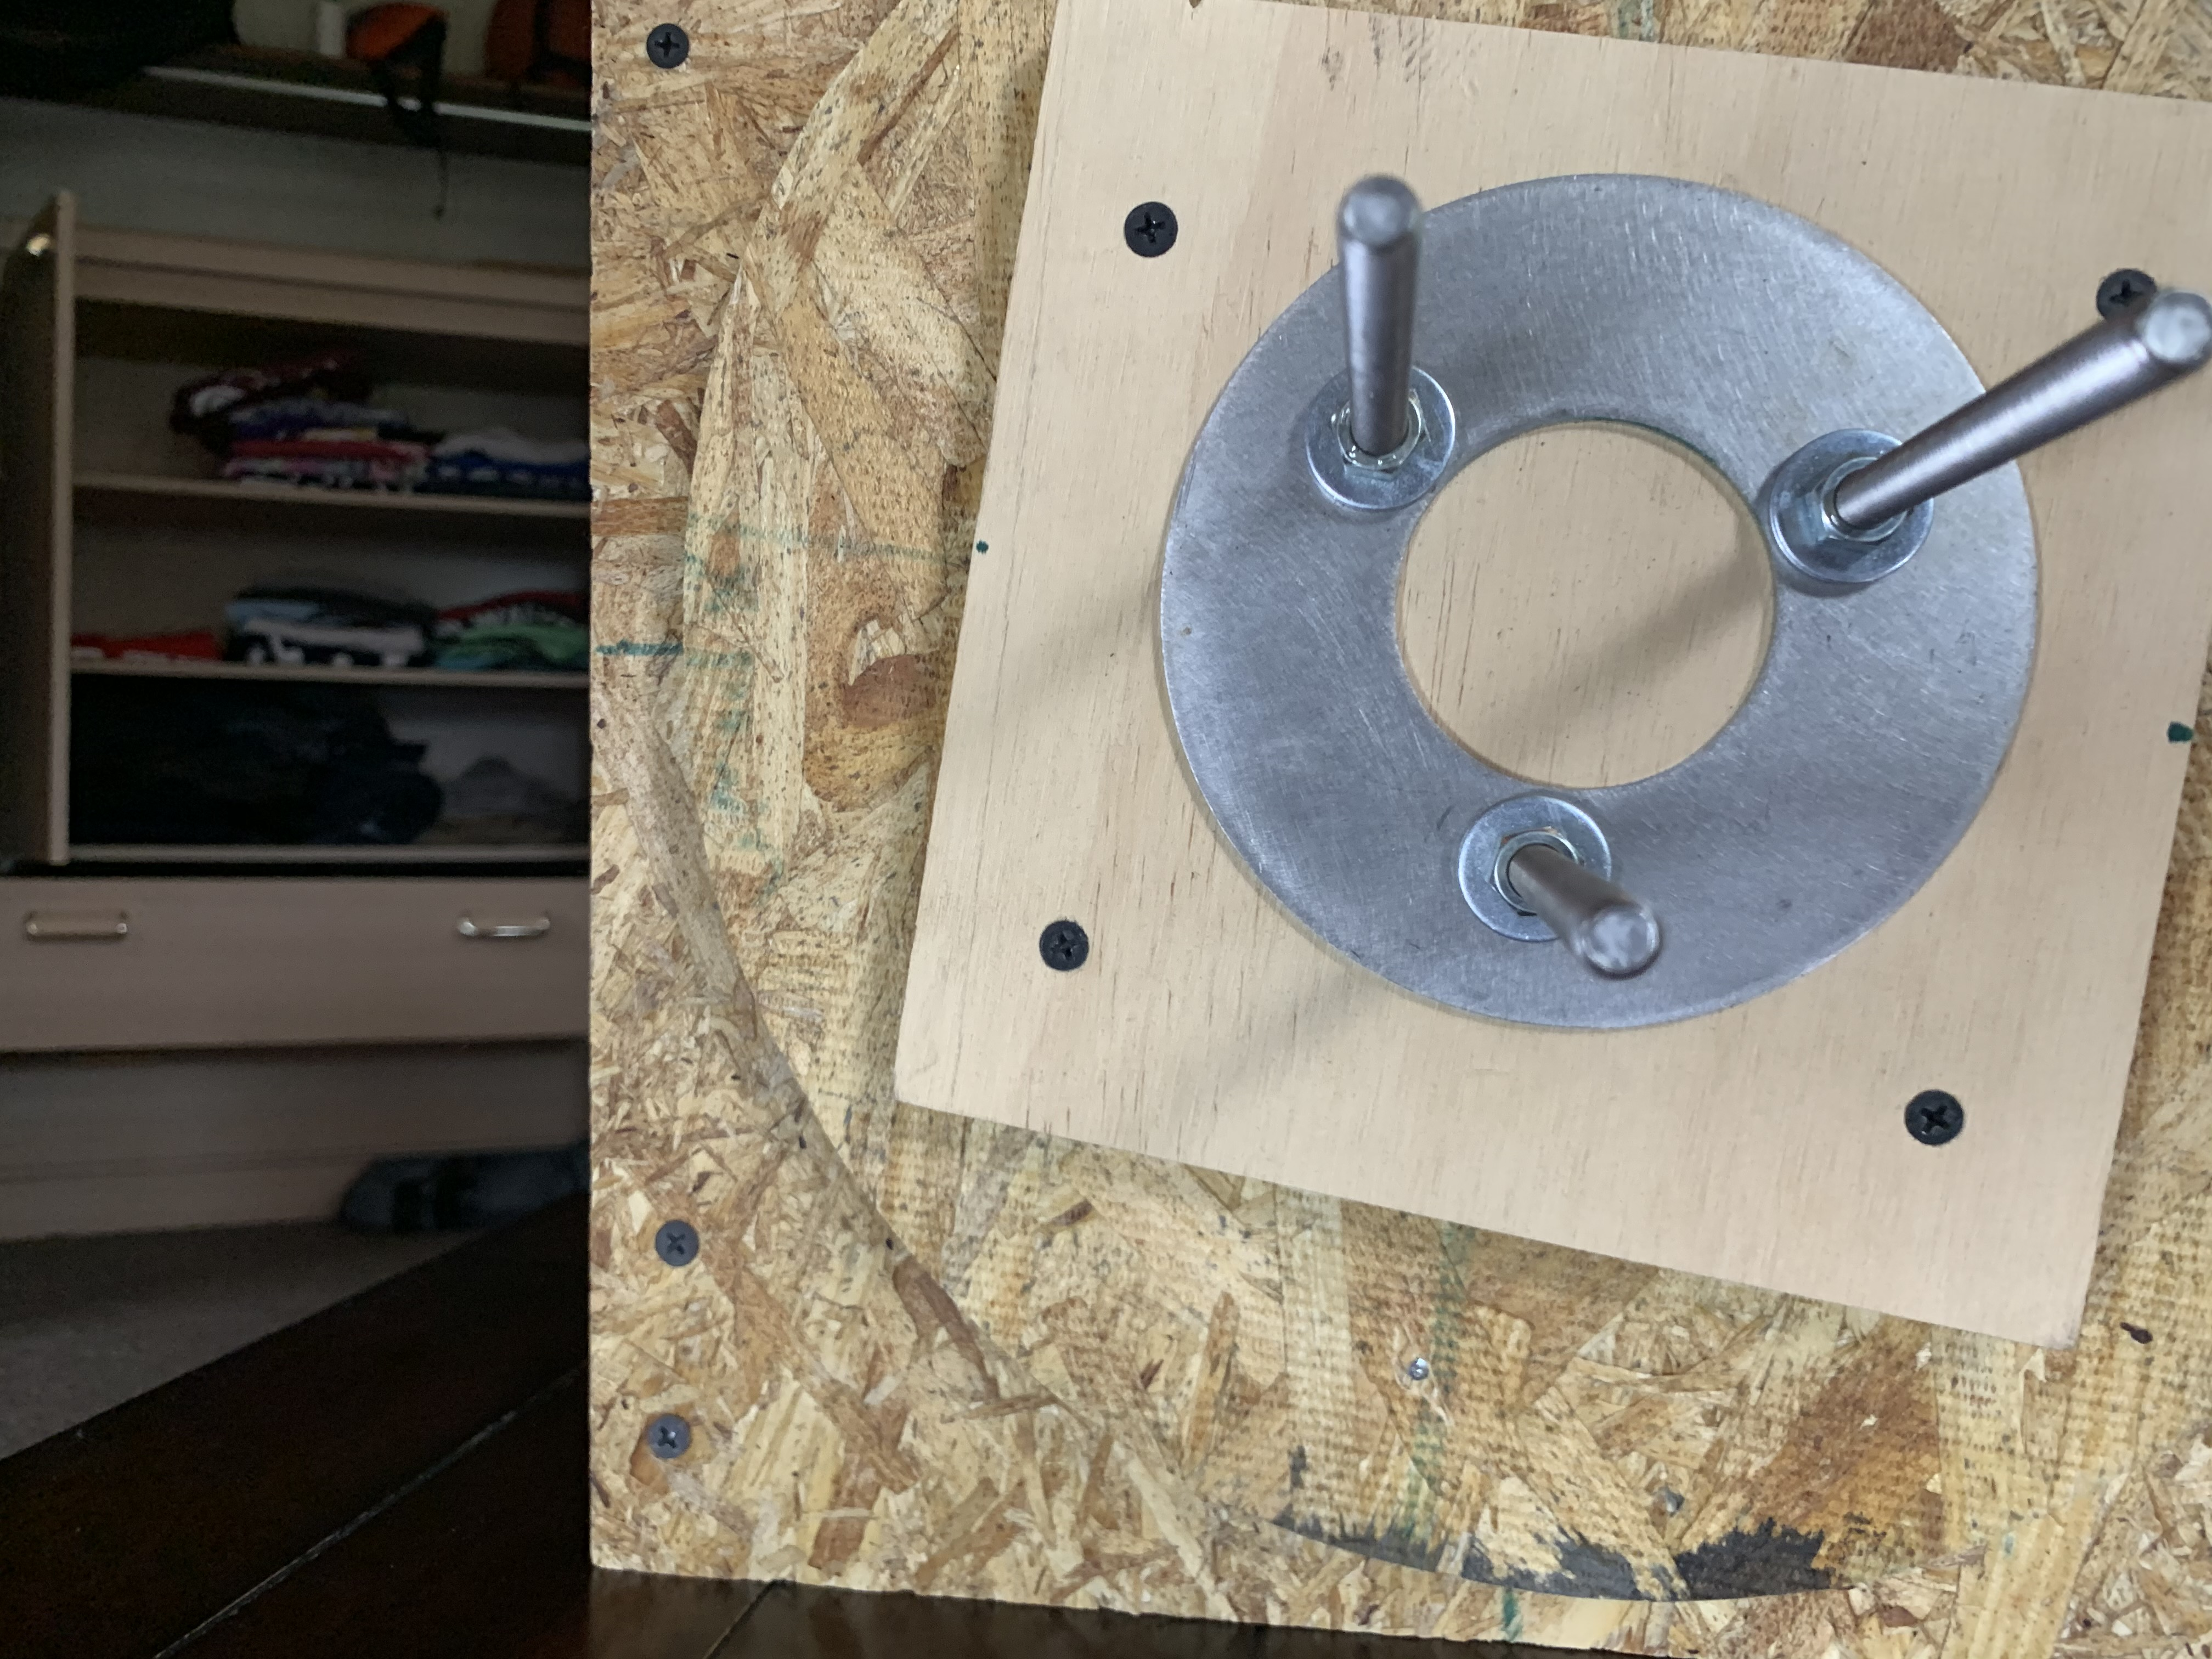bolt: (1764, 423, 1933, 596), (1447, 788, 1623, 945), (1299, 362, 1463, 518)
